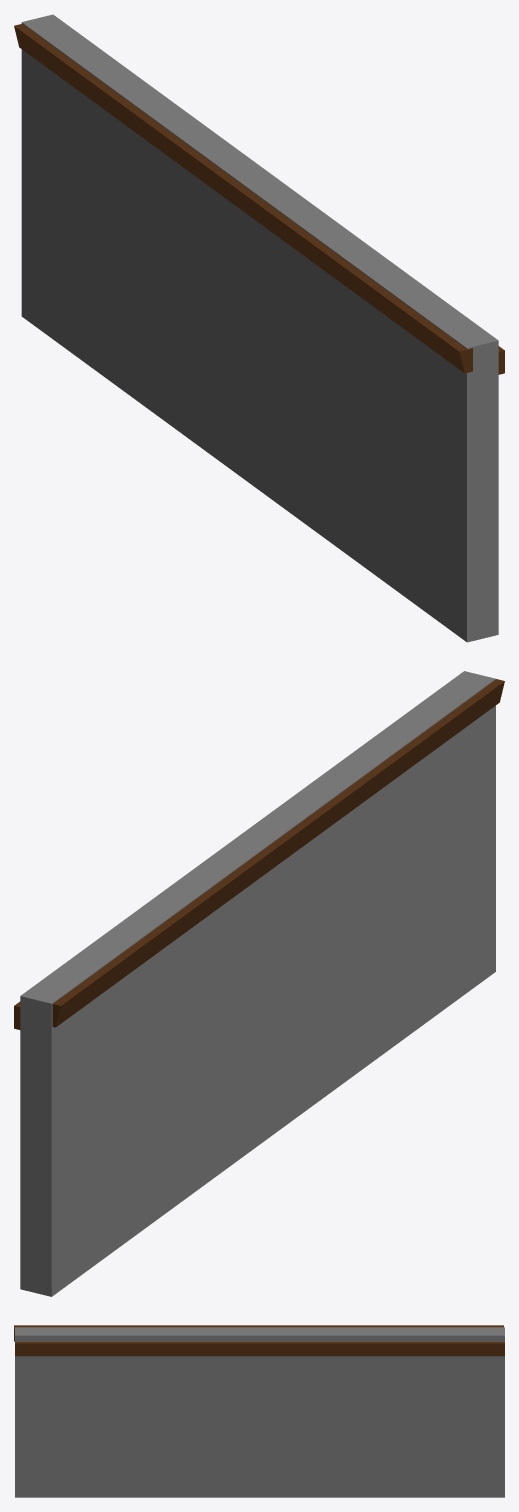
The model's file is WallBase.fbx.
3 renders of one model, top to bottom at view 1: azimuth 30°, elevation 25°; view 2: azimuth 150°, elevation 25°; view 3: azimuth 270°, elevation 25°, orthographic. The views are drawn at different scales.
Visible parts, largest first — view 1: WallBase; view 2: WallBase; view 3: WallBase.
Boxes of the visible parts, x1=… form: WallBase: x1=14, y1=14, x2=504, y2=642; WallBase: x1=14, y1=671, x2=504, y2=1296; WallBase: x1=14, y1=1325, x2=504, y2=1497.
Size of the model in its own units: 1.37 by 8.33 by 22.91.
